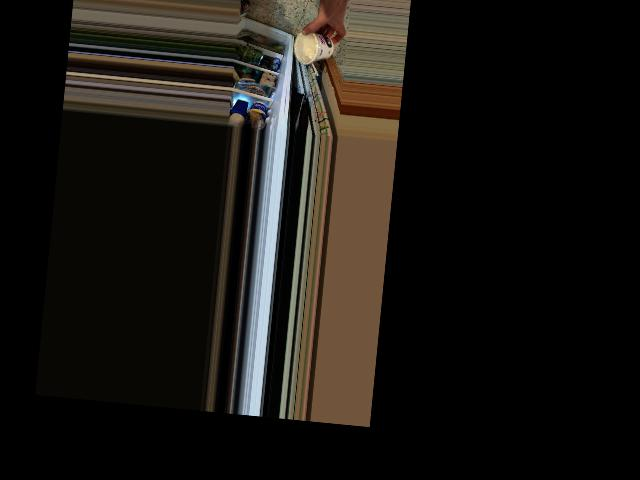cotage: (289, 29, 333, 64)
